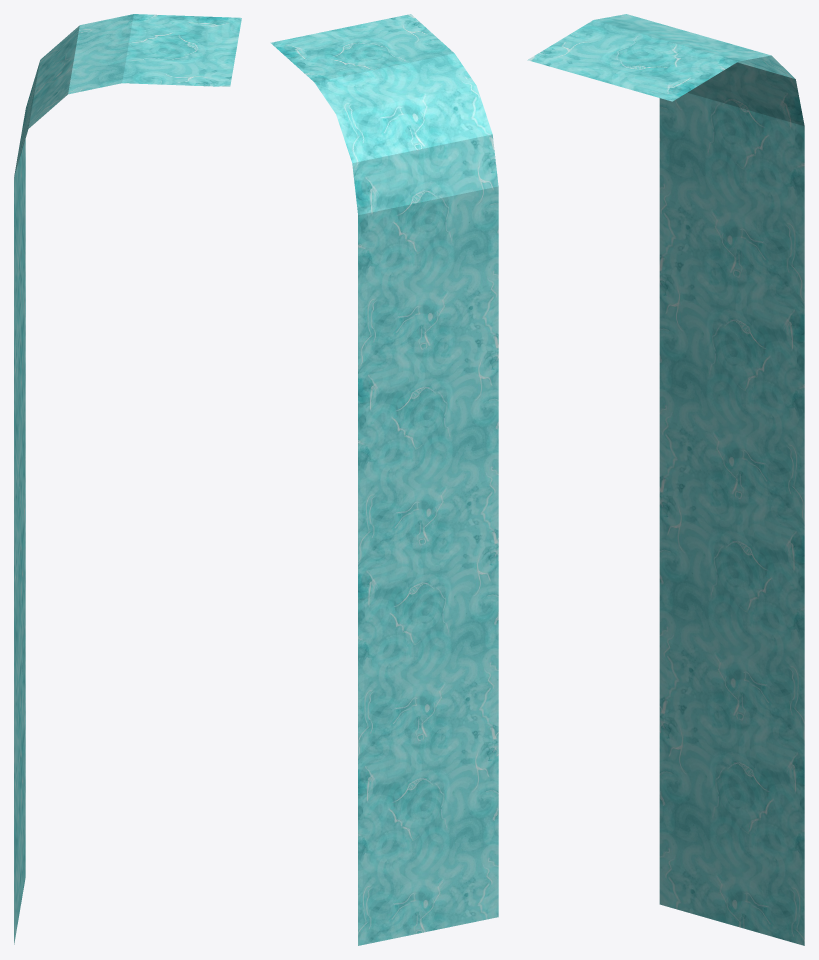
The model's file is entity42360.gltf.
The picture shows the model from 3 angles, left to right: view 1: azimuth 30°, elevation 25°; view 2: azimuth 150°, elevation 25°; view 3: azimuth 270°, elevation 25°; orthographic projection. The views are drawn at different scales.
Parts seen in each view (by area): view 1: node_pCube35; view 2: node_pCube35; view 3: node_pCube35.
Boxes of the visible parts, x1,y1,x2,y2 form: node_pCube35: [14, 14, 241, 944]; node_pCube35: [270, 14, 498, 945]; node_pCube35: [527, 14, 804, 945].
Size of the model in its own units: 420 by 1487 by 404.
1 material, 1 textured.
